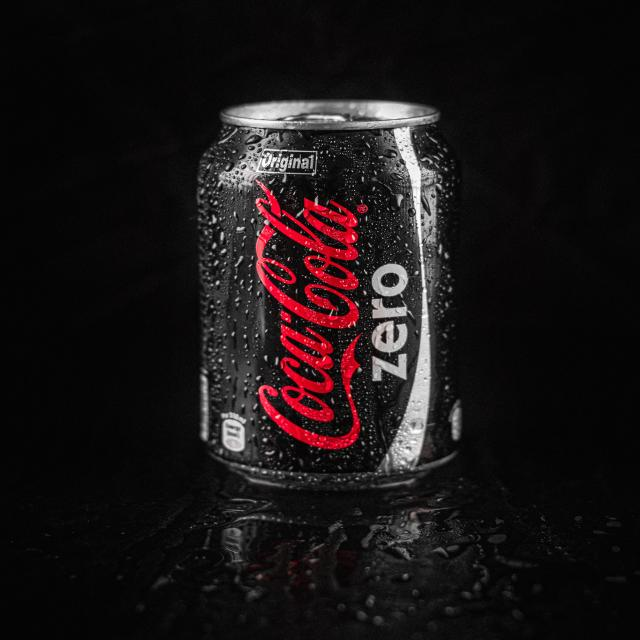can: (196, 98, 465, 490)
